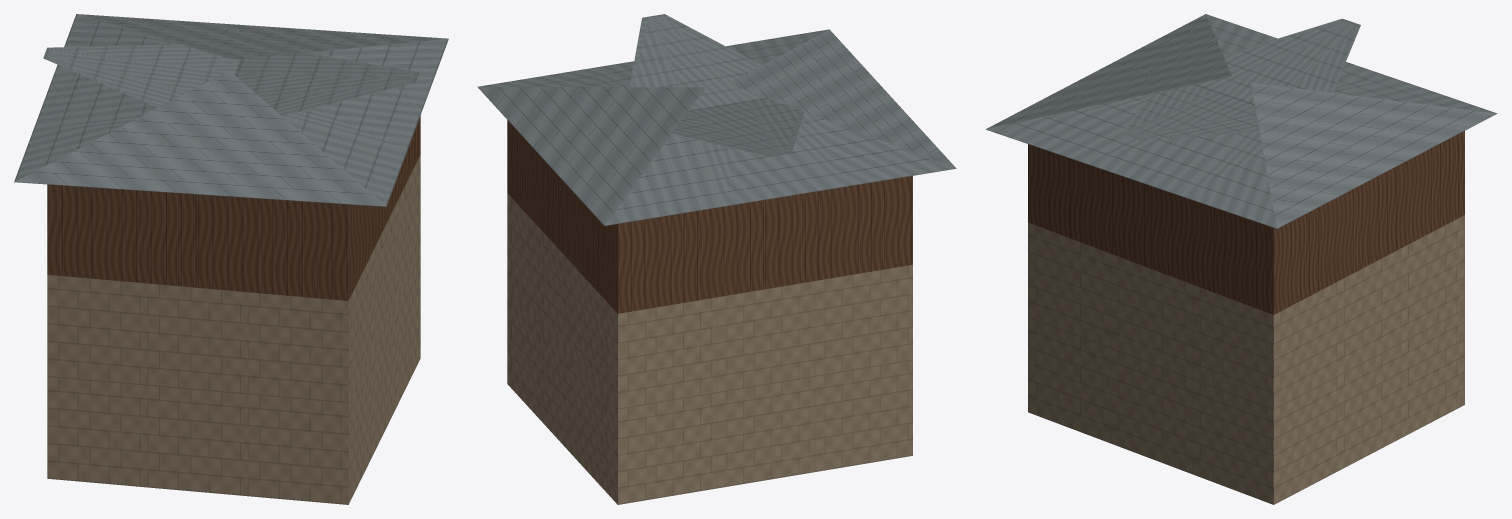
File: bld_c2_-9_613.gltf
3 renders of one model, left to right at view 1: azimuth 30°, elevation 25°; view 2: azimuth 150°, elevation 25°; view 3: azimuth 270°, elevation 25°, orthographic. The views are drawn at different scales.
Parts seen in each view (by area): view 1: bld_c2_-9_613; view 2: bld_c2_-9_613; view 3: bld_c2_-9_613.
Boxes of the visible parts, box(x1,y1,x2,y2) form: bld_c2_-9_613: box(14, 14, 448, 504); bld_c2_-9_613: box(477, 14, 956, 504); bld_c2_-9_613: box(985, 14, 1497, 504).
Bounding box in the file's own units: 10.98 × 7.9 × 11.06.
3 materials, 3 textured.
